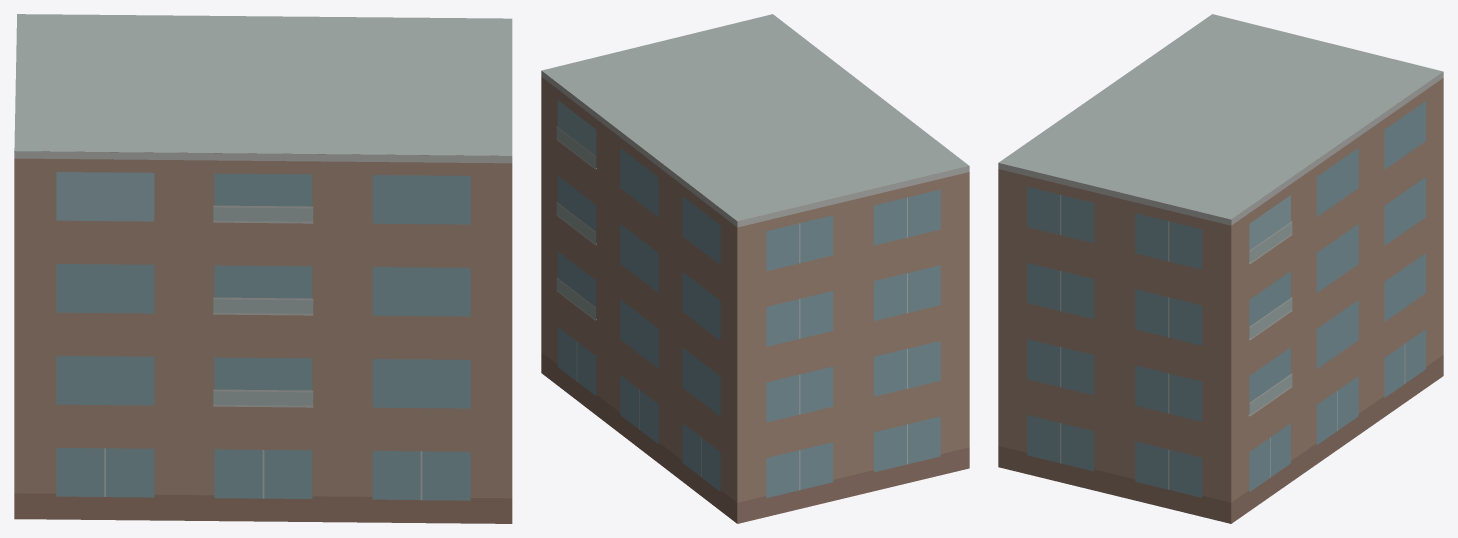
Rendered from survey-upis-32705801.glb.
3 renders of one model, left to right at view 1: azimuth 30°, elevation 25°; view 2: azimuth 150°, elevation 25°; view 3: azimuth 270°, elevation 25°, orthographic. The views are drawn at different scales.
Parts seen in each view (by area): view 1: survey-upis-32705801.tmp; view 2: survey-upis-32705801.tmp; view 3: survey-upis-32705801.tmp.
Boxes of the visible parts, bbox=[...] form: survey-upis-32705801.tmp: bbox=[14, 14, 512, 523]; survey-upis-32705801.tmp: bbox=[541, 14, 969, 523]; survey-upis-32705801.tmp: bbox=[998, 14, 1443, 523].
Bounding box in the file's own units: 17.54 × 12.1 × 16.06.
